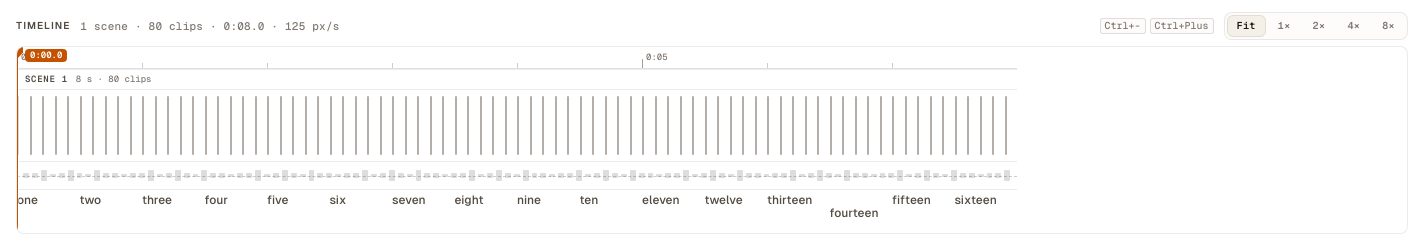
SizzleTimeline › 80 clips at fit are bare ticks; at 4× they grow into thumbnails and the strip scrolls
Click the button with test id "sizzle-timeline-zoom-4": {"x": 1354, "y": 26} [1337,15,1370,37]
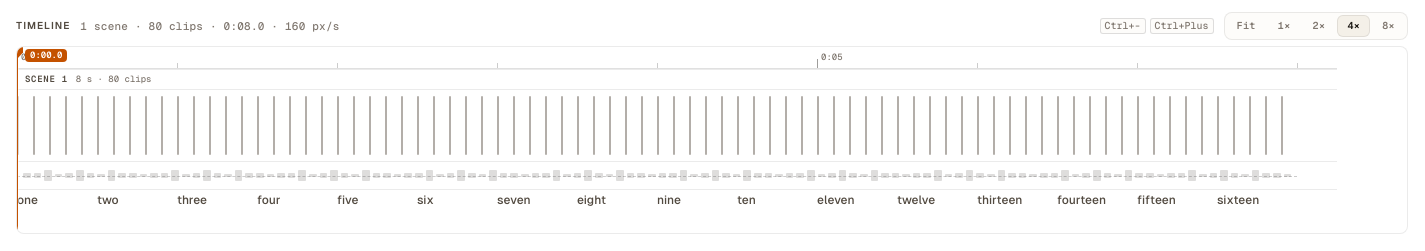
Check: the text with test id "sizzle-timeline-meta" shows "160 px/s", box [264,18,340,32]
